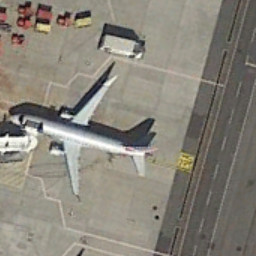Airplane: (3, 62, 170, 215)
